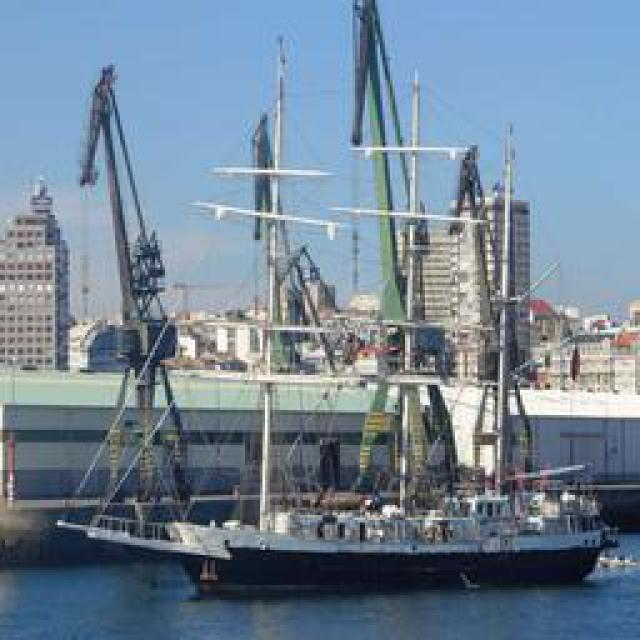Ship: (13, 21, 628, 584)
